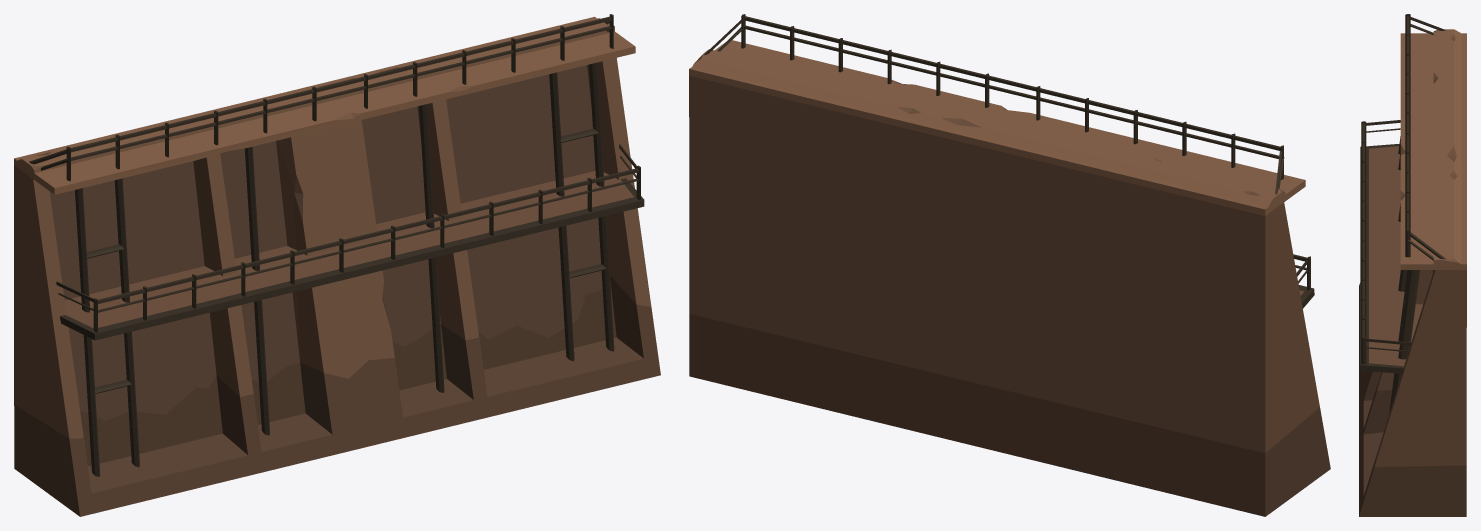
The model's file is SM_Env_Port_Drydock_Small_01.fbx.
3 renders of one model, left to right at view 1: azimuth 30°, elevation 25°; view 2: azimuth 150°, elevation 25°; view 3: azimuth 270°, elevation 25°, orthographic. The views are drawn at different scales.
Parts seen in each view (by area): view 1: SM_Env_Port_Drydock_Small_01; view 2: SM_Env_Port_Drydock_Small_01; view 3: SM_Env_Port_Drydock_Small_01.
Part boxes in pixels (x1,y1,x2,y2): SM_Env_Port_Drydock_Small_01: [14, 14, 660, 516]; SM_Env_Port_Drydock_Small_01: [689, 14, 1330, 516]; SM_Env_Port_Drydock_Small_01: [1359, 14, 1466, 516].
Size of the model in its own units: 1000 by 564 by 197.
